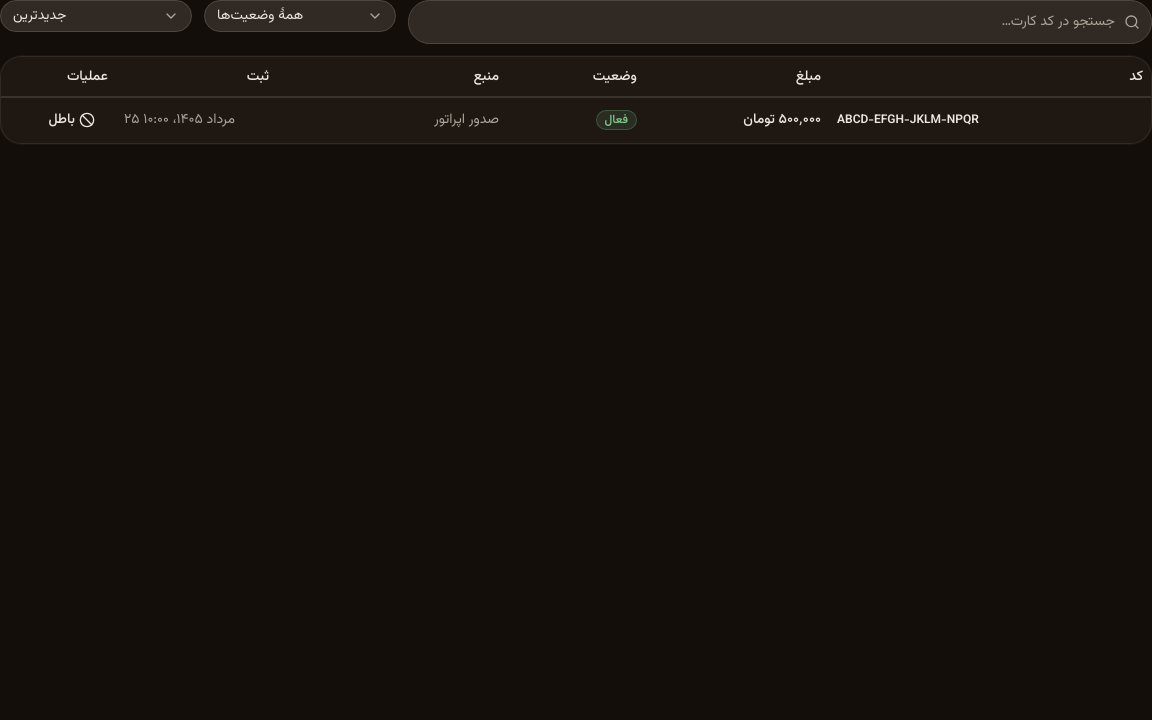
Scenario: GiftCardList › surfaces the backend void error and does not toast success
Click the button with aria-label "باطل کردن ABCD-EFGH-JKLM-NPQR" at (72,120), box [35,106,108,134]
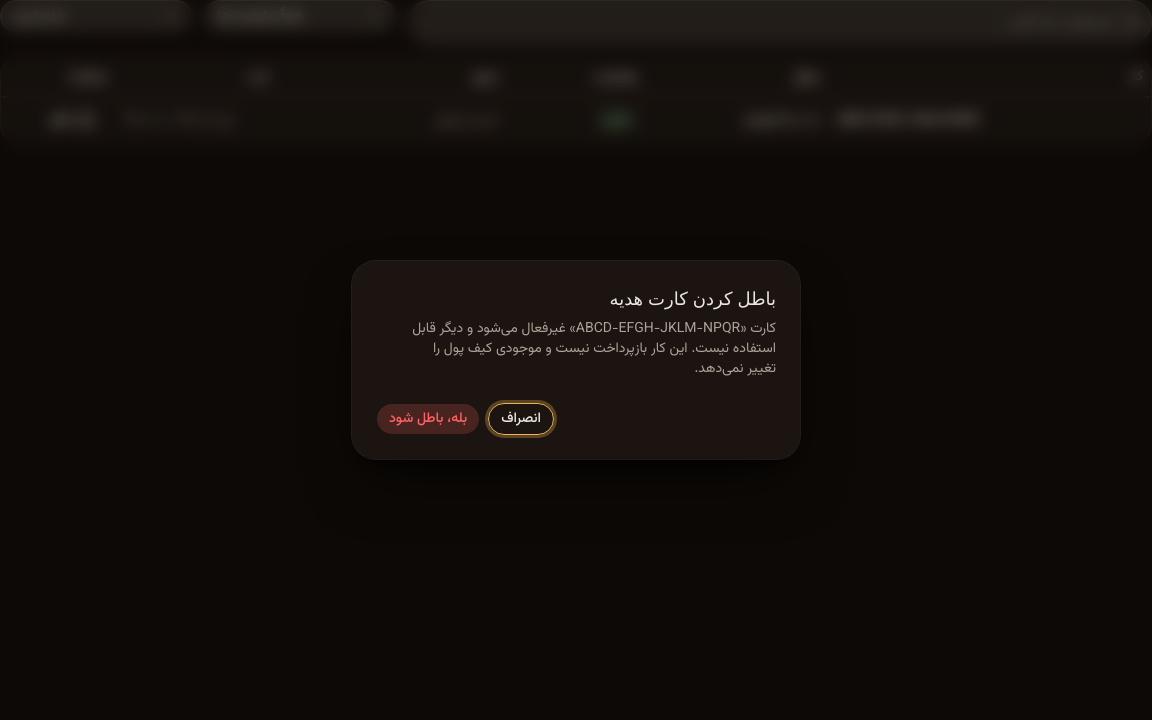
Click the button "بله، باطل شود" at (428,419), box [376,403,480,435]
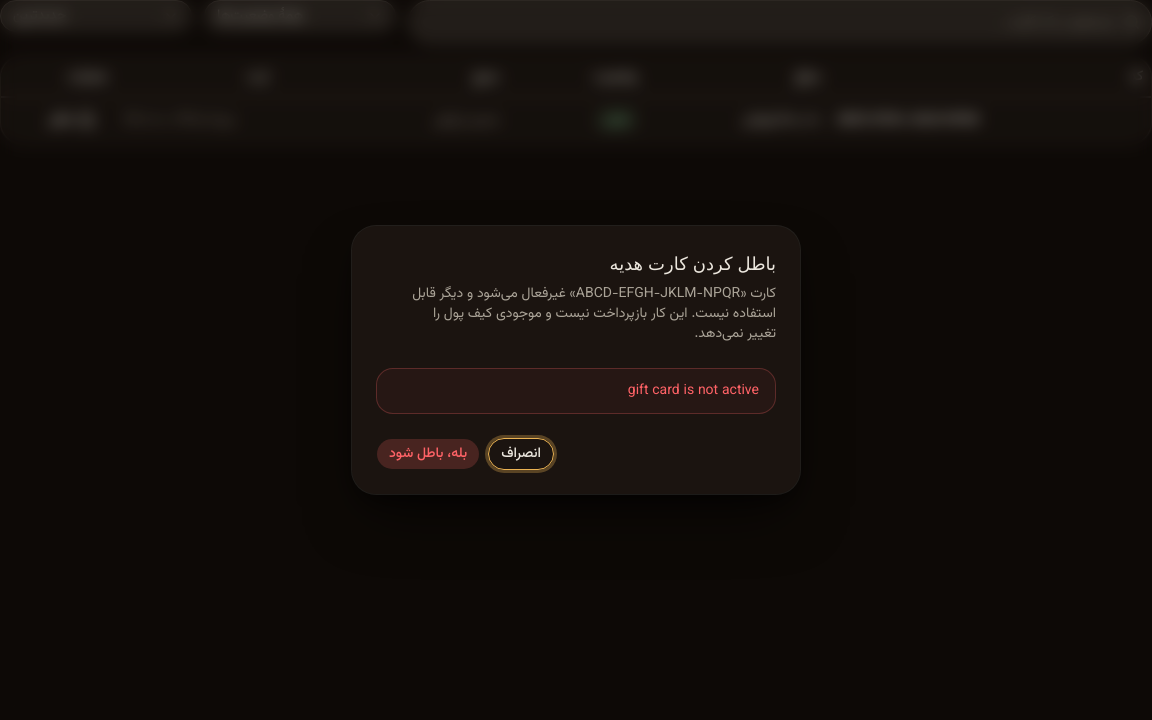
Expected: the message reads "gift card is not active", [628,380,759,402]
